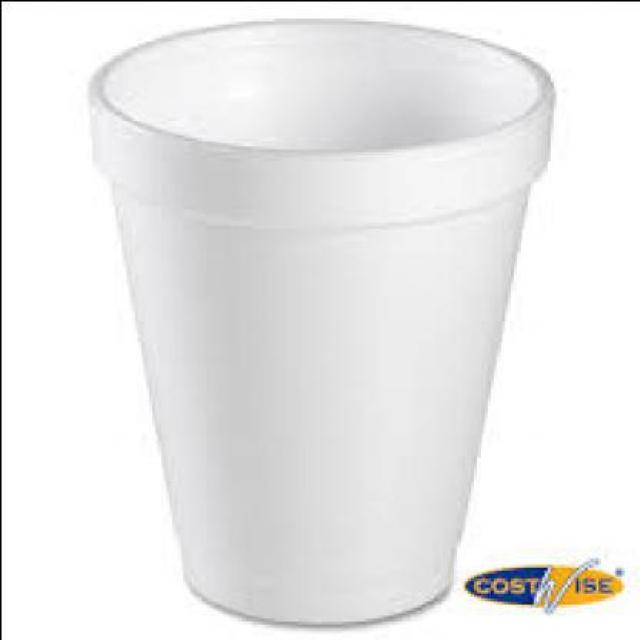PAPER: (86, 11, 554, 626)
